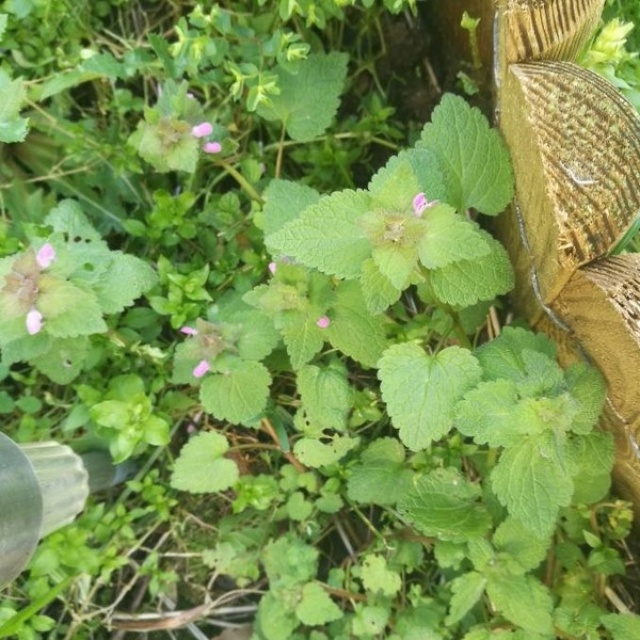obstacle: (143, 31, 587, 580)
